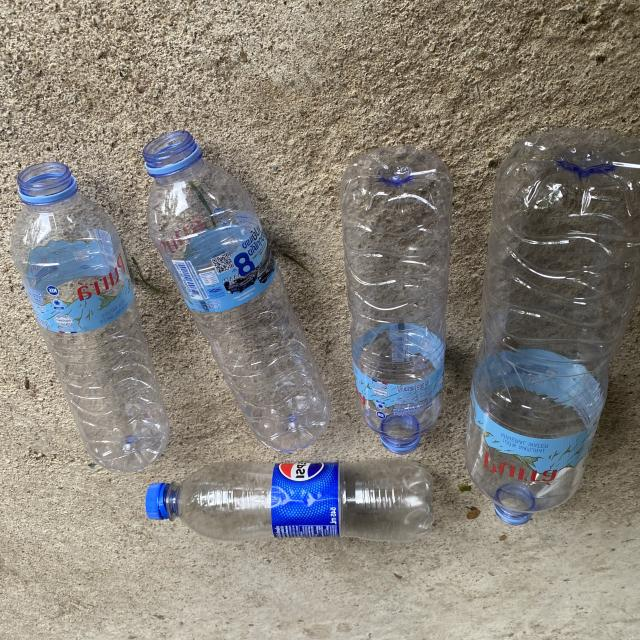plastik: (466, 128, 640, 523), (143, 131, 330, 453), (12, 162, 169, 472), (341, 146, 452, 453), (146, 459, 434, 541)
